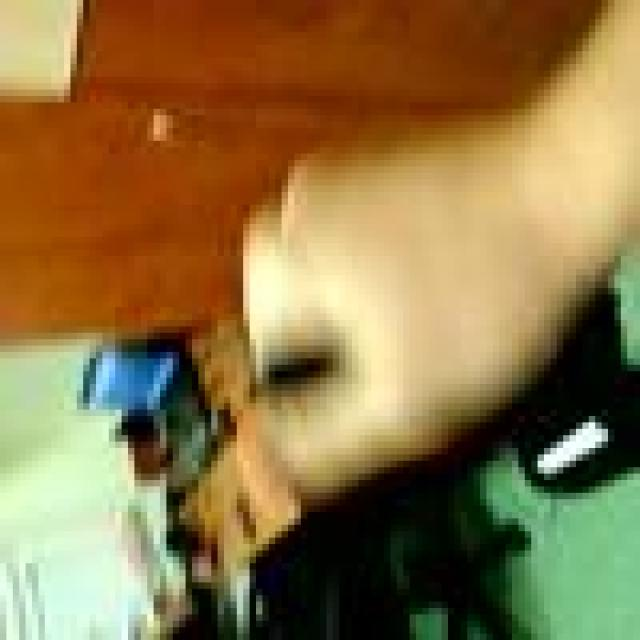knife: (215, 568, 253, 640)
